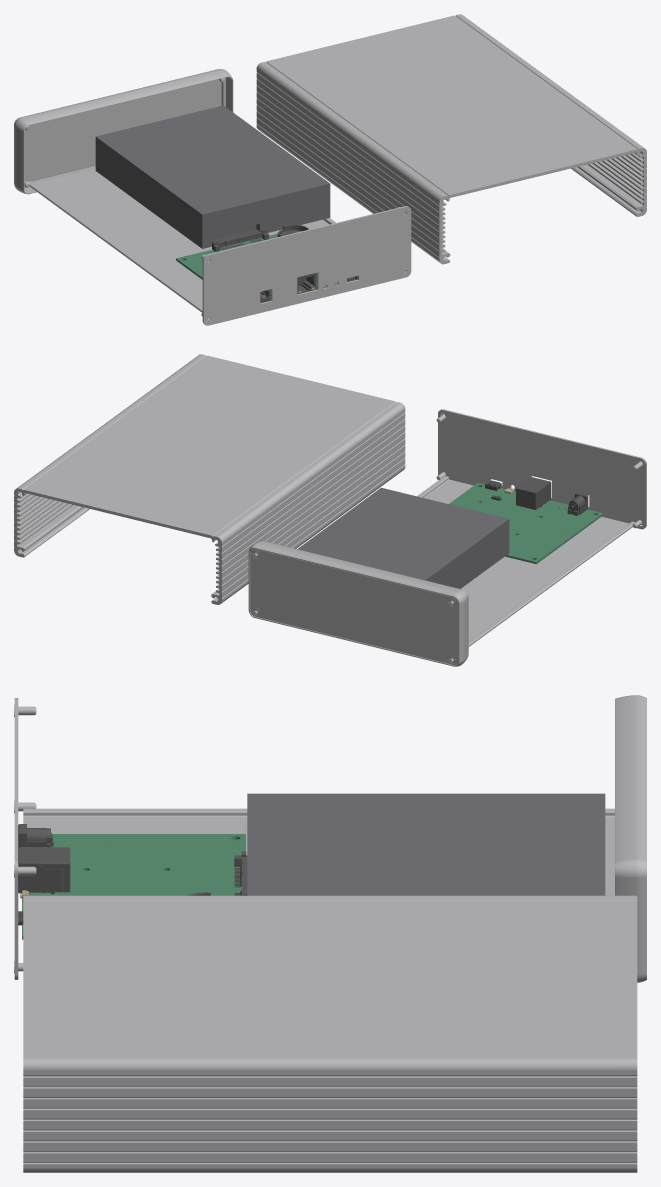
File: assembly-wide.glb
The picture shows the model from 3 angles, top to bottom: view 1: azimuth 30°, elevation 25°; view 2: azimuth 150°, elevation 25°; view 3: azimuth 270°, elevation 25°; orthographic projection. The views are drawn at different scales.
Visible parts, largest first — view 1: Lid, HDD, Case, EndPlate, PCB_Conn, PCB_Board; view 2: Lid, Case, HDD, EndPlate, PCB_Board, PCB_Conn; view 3: Lid, HDD, Case, PCB_Board, PCB_Conn, EndPlate.
Boxes of the visible parts, x1=… form: Lid: x1=256, y1=14, x2=646, y2=264; HDD: x1=95, y1=105, x2=330, y2=248; Case: x1=14, y1=69, x2=408, y2=322; EndPlate: x1=202, y1=206, x2=411, y2=325; PCB_Conn: x1=212, y1=224, x2=316, y2=303; PCB_Board: x1=176, y1=234, x2=357, y2=300; Lid: x1=14, y1=354, x2=405, y2=604; Case: x1=248, y1=413, x2=642, y2=666; HDD: x1=297, y1=487, x2=509, y2=588; EndPlate: x1=438, y1=409, x2=646, y2=529; PCB_Board: x1=449, y1=482, x2=603, y2=564; PCB_Conn: x1=516, y1=477, x2=588, y2=515; Lid: x1=23, y1=895, x2=637, y2=1172; HDD: x1=247, y1=793, x2=605, y2=895; Case: x1=14, y1=695, x2=646, y2=982; PCB_Board: x1=22, y1=834, x2=245, y2=939; PCB_Conn: x1=18, y1=824, x2=247, y2=895; EndPlate: x1=14, y1=698, x2=18, y2=979.
Size of the model in its own units: 0.3567 by 0.0556 by 0.2598.
